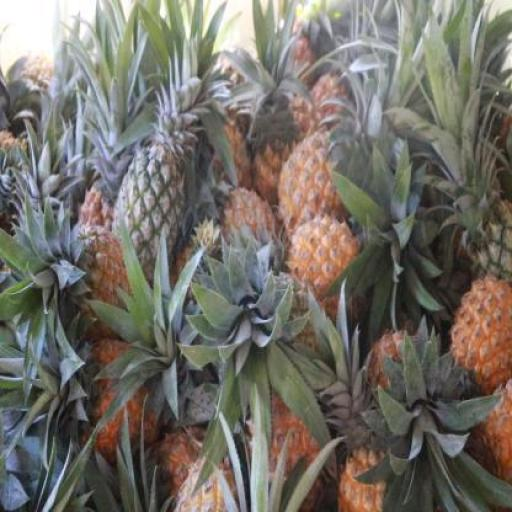Pineapple - v8 v1: (280, 136, 350, 238), (452, 278, 510, 396), (287, 211, 360, 299)
